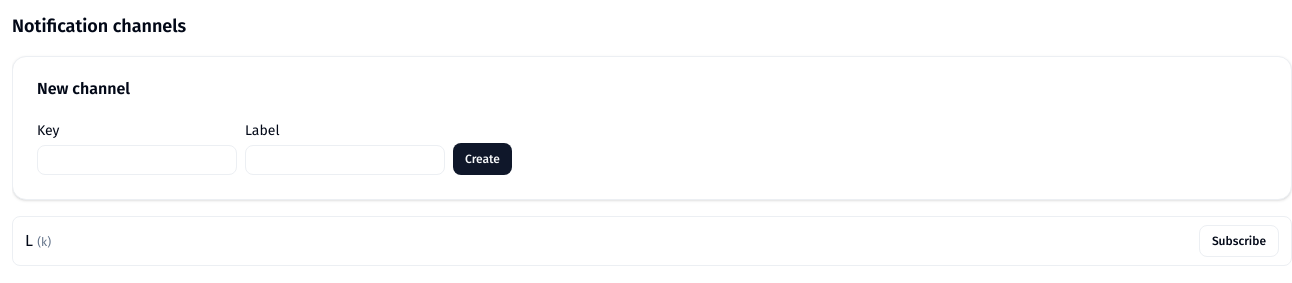
it: ChannelsPage › subscribes to a channel and disables the button once subscribed
Click the button "Subscribe" at (1239, 241), box [1199, 225, 1279, 257]
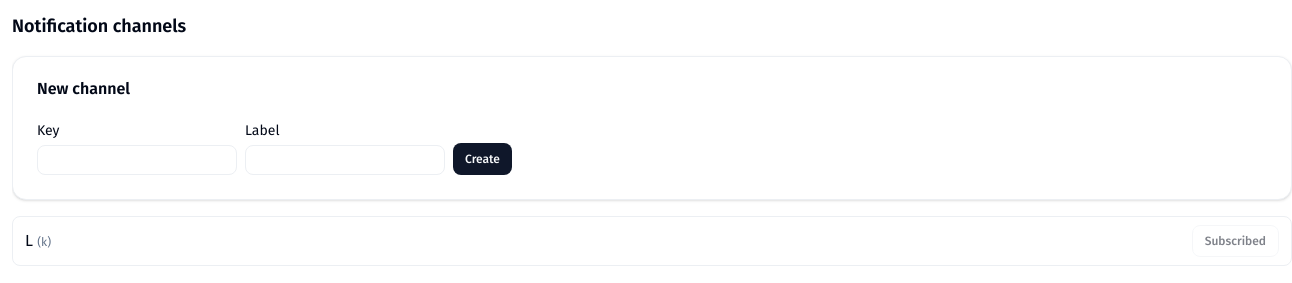
expect the button "Subscribed" is disabled: met, box [1192, 225, 1279, 257]
